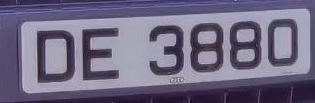0: (263, 13, 303, 73)
3: (143, 17, 190, 83)
8: (186, 13, 228, 76), (225, 12, 265, 76)
D: (30, 21, 82, 91)
E: (78, 20, 126, 89)
